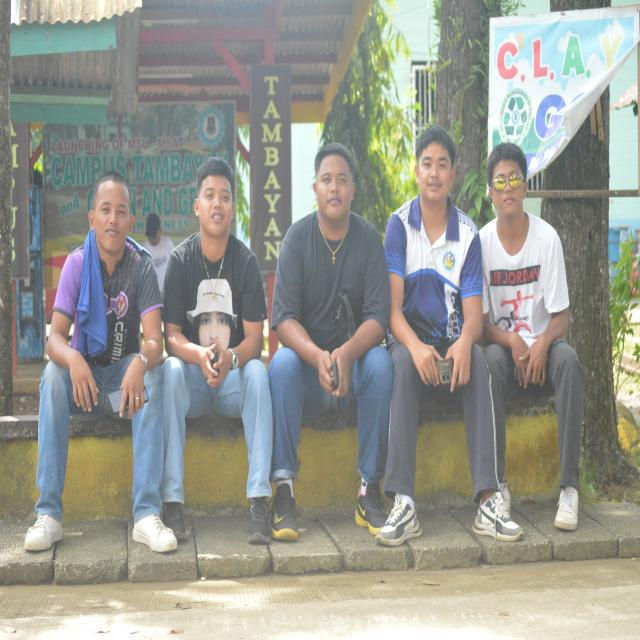person: (377, 126, 523, 545), (25, 173, 177, 551), (269, 144, 392, 540), (161, 157, 272, 543), (481, 144, 585, 530), (143, 214, 174, 292)
